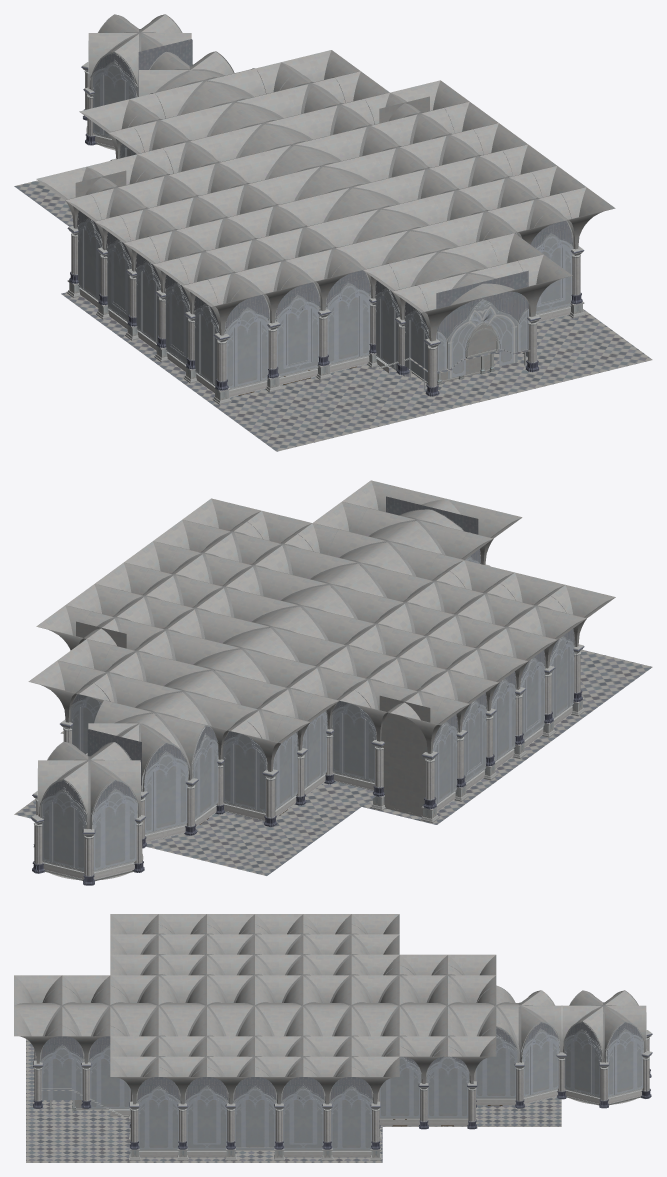
File: IndoorScene_Md_Churchbasement.fbx
3 renders of one model, top to bottom at view 1: azimuth 30°, elevation 25°; view 2: azimuth 150°, elevation 25°; view 3: azimuth 270°, elevation 25°, orthographic. The views are drawn at different scales.
Visible parts, largest first — view 1: Indoor_MdBuild_Churchbasement01_Main_Vo, Indoor_Mdprops_Church_Squate02_Vo (×2); view 2: Indoor_MdBuild_Churchbasement01_Main_Vo, Indoor_Mdprops_Church_Squate02_Vo (×3); view 3: Indoor_MdBuild_Churchbasement01_Main_Vo, Indoor_Mdprops_Church_Squate02_Vo (×13).
Part boxes in pixels (left/top/right/bottom): Indoor_MdBuild_Churchbasement01_Main_Vo: left=14, top=14, right=652, bottom=451; Indoor_Mdprops_Church_Squate02_Vo (×2): left=213, top=333, right=440, bottom=396; Indoor_MdBuild_Churchbasement01_Main_Vo: left=14, top=480, right=652, bottom=881; Indoor_Mdprops_Church_Squate02_Vo (×3): left=82, top=751, right=438, bottom=885; Indoor_MdBuild_Churchbasement01_Main_Vo: left=14, top=914, right=646, bottom=1162; Indoor_Mdprops_Church_Squate02_Vo (×13): left=33, top=1050, right=652, bottom=1149.
Size of what is drawn, in the model's own units: 64 by 19.73 by 106.
Materials: 20 (20 with a texture image).
